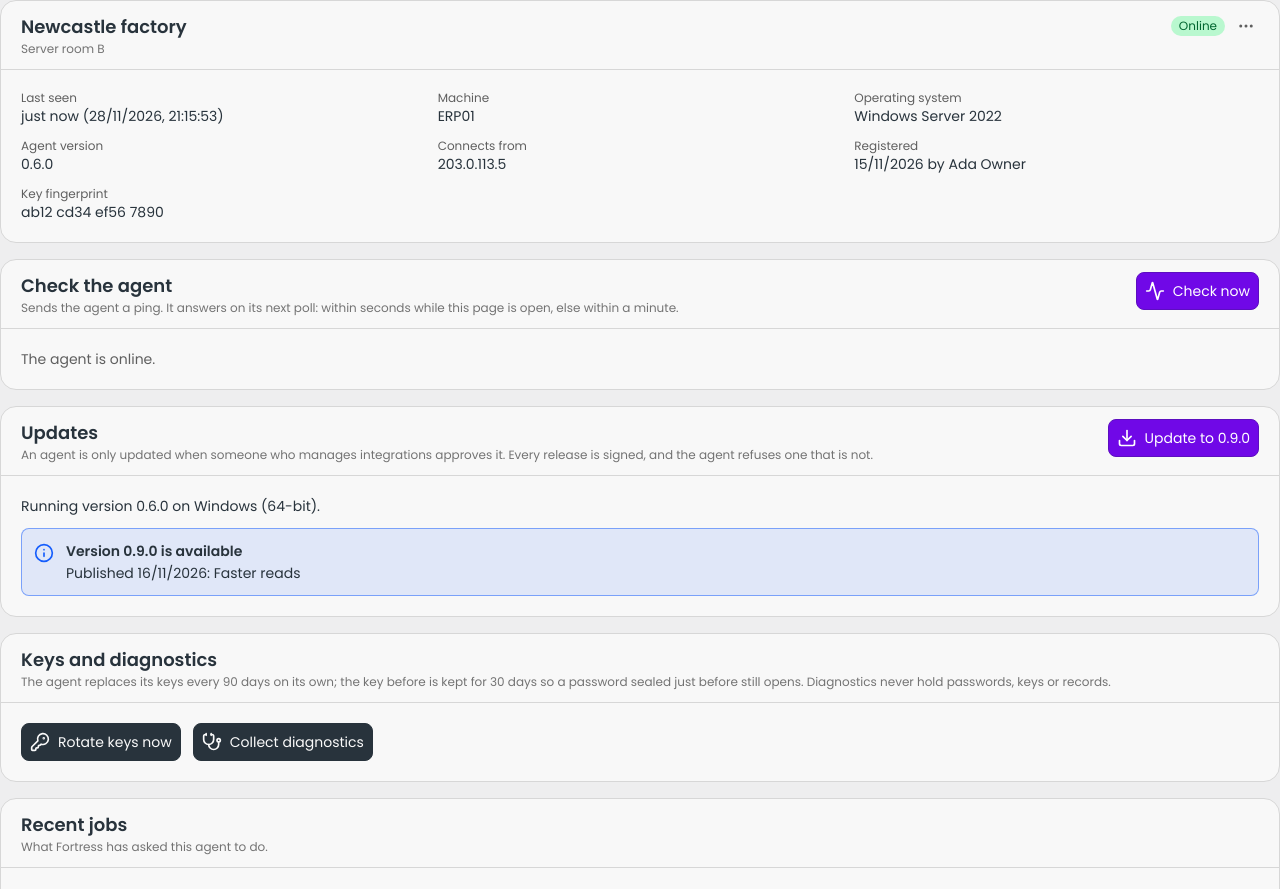
updates › offers the newest release and approves it after saying what will happen
Expected: the text "Running version 0.6.0 on Windows (64-bit)." is shown, 21,496 -> 320,516
Expected: the text "Version 0.9.0 is available" is shown, 66,541 -> 242,561
Click the button "Update to 0.9.0". click: click(1183, 438)
box: 1108,419 -> 1259,457
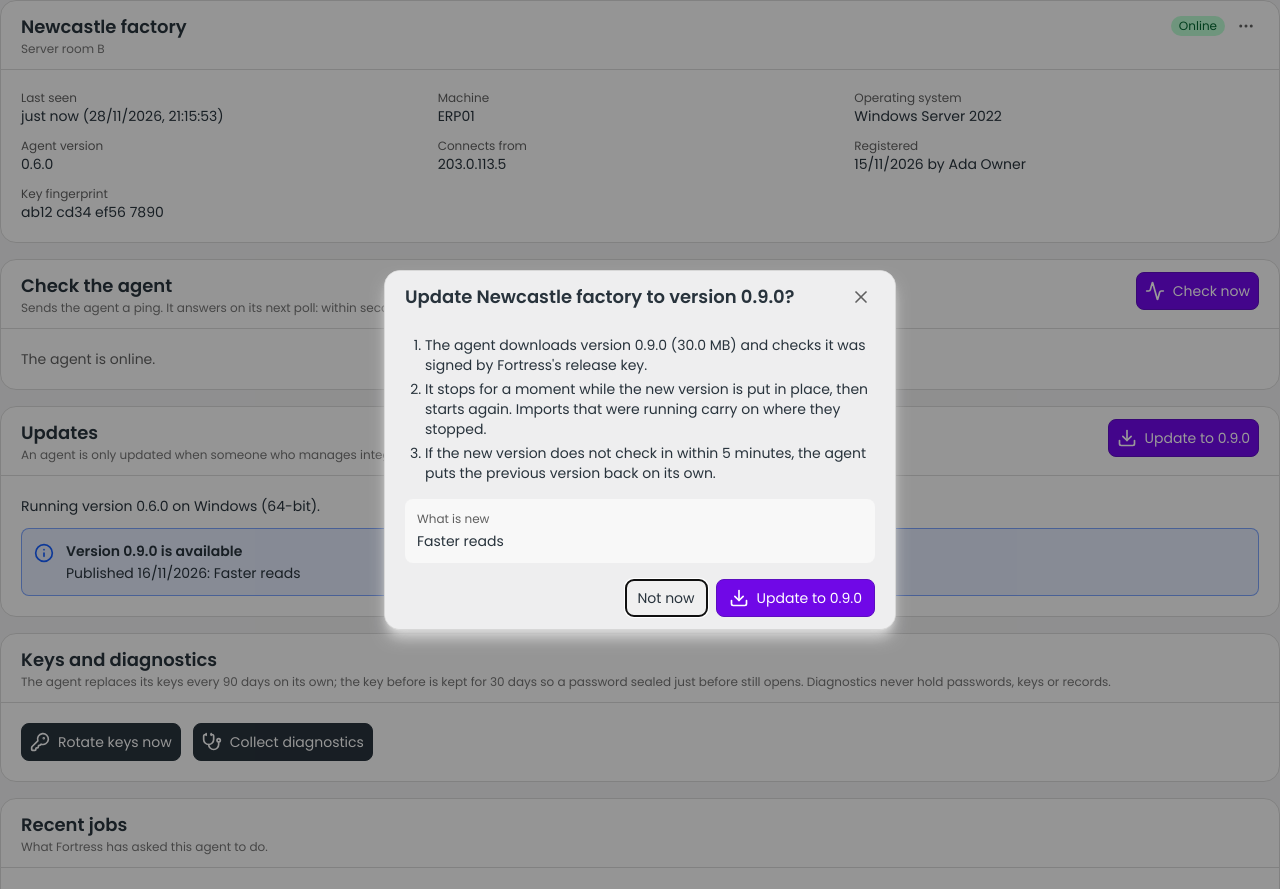
Click the button "Update to 0.9.0". click: click(795, 598)
box: 716,579 -> 875,617
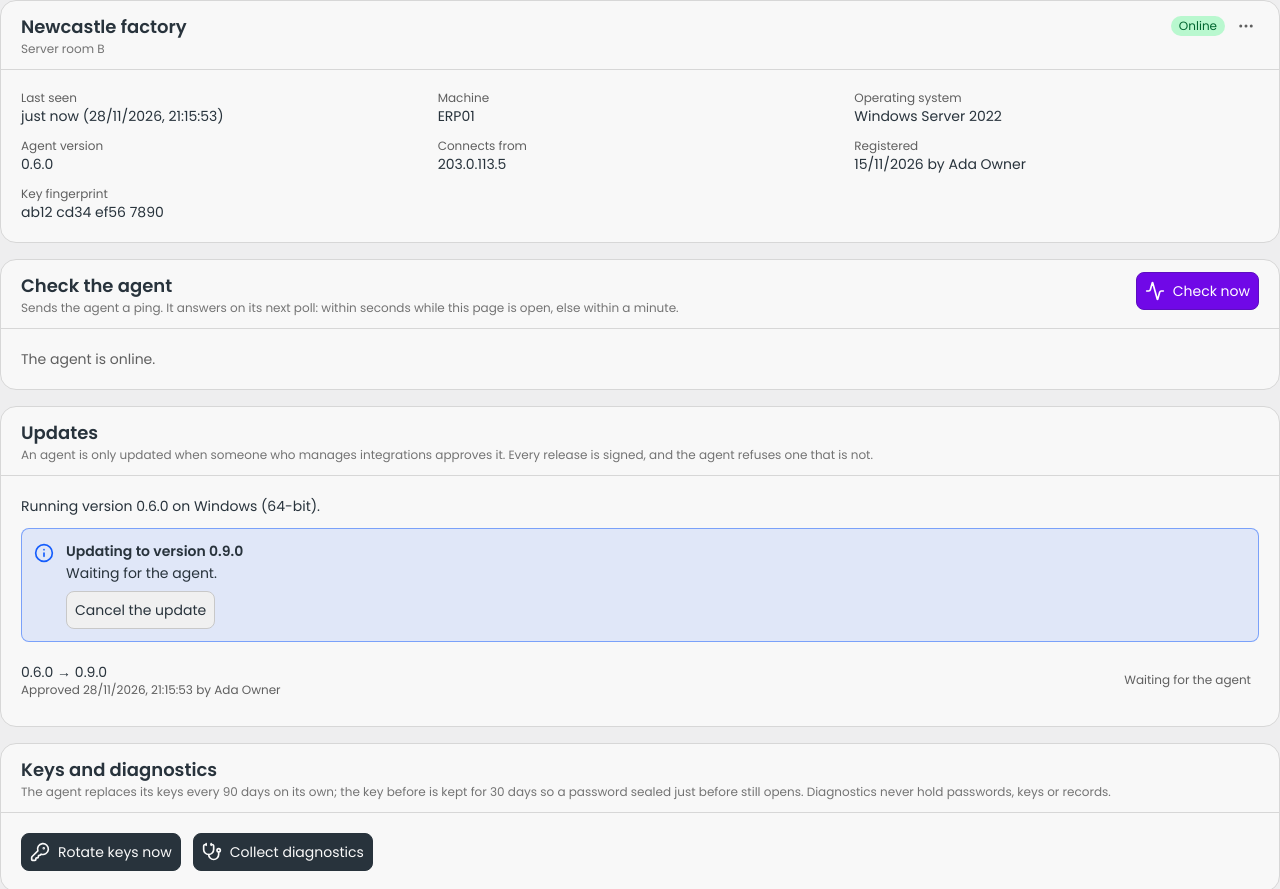
Result: the text "Updating to version 0.9.0" is shown at 66,541 -> 243,561
Result: the button "Update to 0.9.0" is gone
